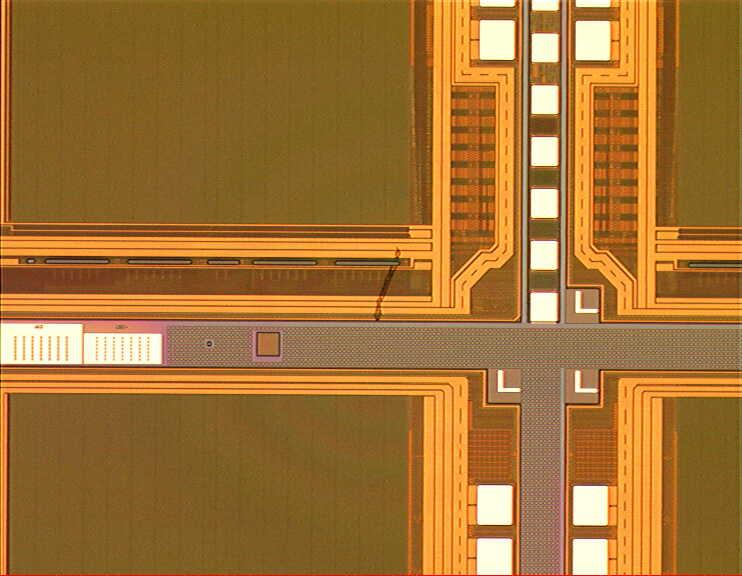PIQ PARTICLE: (370, 243, 410, 326)
